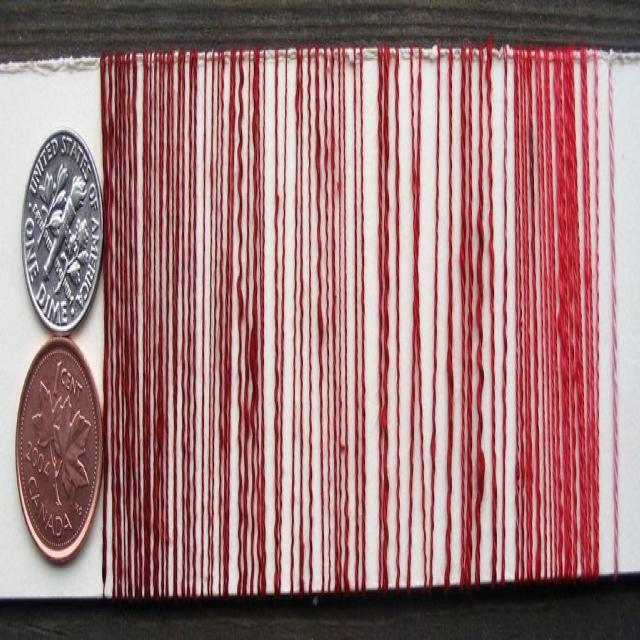Coin: (13, 336, 104, 561), (20, 122, 103, 340)
